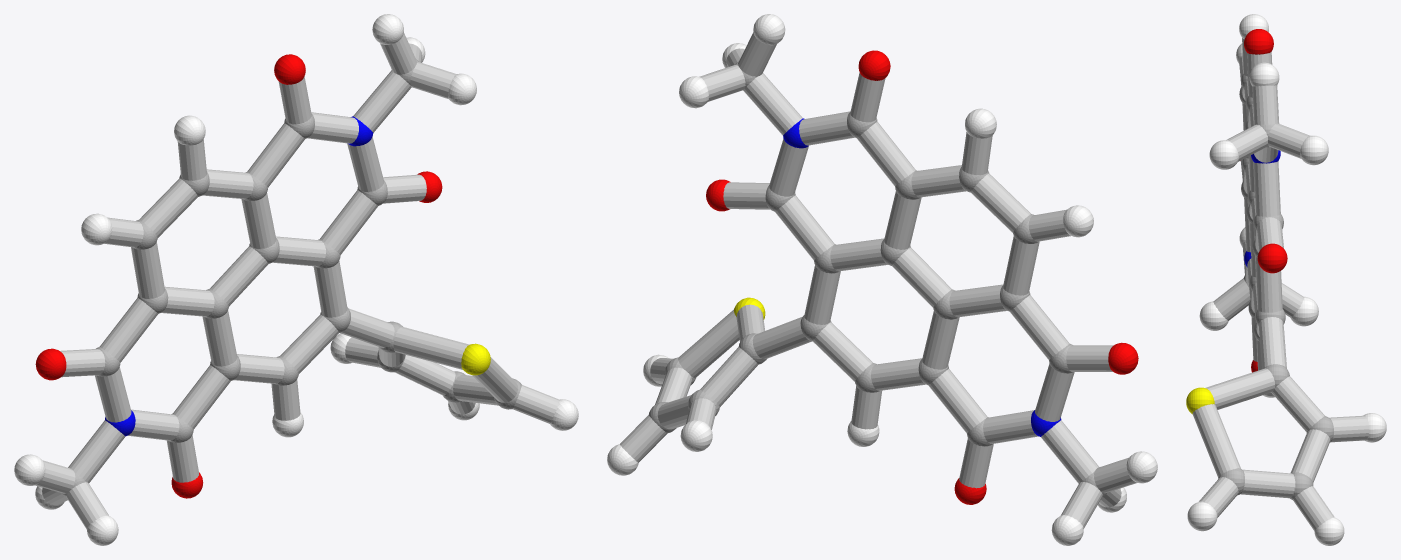
The model's file is Dimethyl_Naphthalene_Dicarboximide_Phi_10_Theta_250_Thiophene.glb.
The picture shows the model from 3 angles, left to right: view 1: azimuth 30°, elevation 25°; view 2: azimuth 150°, elevation 25°; view 3: azimuth 270°, elevation 25°; orthographic projection. The views are drawn at different scales.
Visible parts, largest first — view 1: grp14119, grp7241, grp1, grp12309, grp13757, grp11585; view 2: grp14119, grp7241, grp1, grp12309, grp11585; view 3: grp14119, grp7241, grp1, grp12309, grp13757.
Part boxes in pixels (x1,y1,x2,y2): grp14119: [35, 32, 559, 529]; grp7241: [14, 14, 578, 545]; grp1: [61, 59, 521, 496]; grp12309: [35, 54, 442, 498]; grp13757: [461, 343, 490, 375]; grp11585: [105, 116, 373, 436]; grp14119: [620, 32, 1136, 528]; grp7241: [607, 14, 1157, 545]; grp1: [648, 61, 1106, 496]; grp12309: [706, 50, 1138, 504]; grp11585: [783, 118, 1061, 436]; grp14119: [1192, 38, 1369, 530]; grp7241: [1187, 14, 1386, 545]; grp1: [1218, 74, 1333, 499]; grp12309: [1244, 29, 1287, 372]; grp13757: [1186, 387, 1214, 414].
Size of the model in its own units: 11.61 by 9.49 by 4.02.
